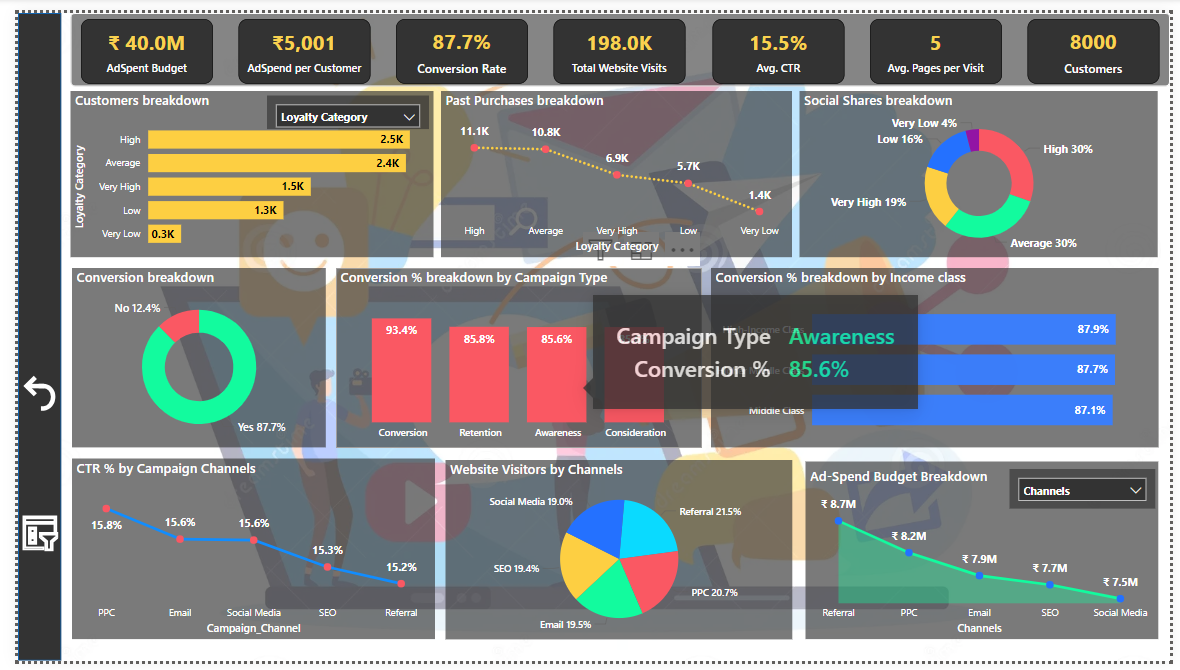

Layout of this report page (visuals, bound fields, positions):
{"tool":"powerbi","page":{"name":"Dashboard","canvas":[1280,720],"ordinal":0},"visuals":[{"type":"shape","box":[0,0,48.2,719.6],"z":0},{"type":"shape","box":[58.3,0,1221.7,81.7],"z":0,"group":"g1"},{"type":"clusteredBarChart","title":"Customers breakdown ","fields":{"Category":["Lookup Table.Age_Group #"],"Y":["DAX Measures.Total customers/ Visitors"]},"box":[57.8,86.7,403.2,184.6],"z":0,"group":"g3"},{"type":"lineChart","title":"Ad-Spend Budget Breakdown ","fields":{"Category":["Lookup Table.Campaign_Channel"],"Y":["DAX Measures.Total AdSpend Budget"]},"box":[874.4,498.7,391.9,197.5],"z":0,"group":"g2"},{"type":"group","id":"g1","title":"KPI Group","box":[58.3,0,1221.7,81.7],"z":1000},{"type":"card","fields":{"Values":["DAX Measures.Total AdSpend Budget"]},"box":[70,6.9,146.7,71.7],"z":1000,"group":"g1"},{"type":"slicer","fields":{"Values":["set-1: Customer attributes .set-1: Customer attributes "]},"box":[276.3,91.3,179.7,37.2],"z":1000,"group":"g3"},{"type":"slicer","fields":{"Values":["Set-2: Campaign attributes.Set-2: Campaign attributes"]},"box":[1100.4,506.6,161.9,43.7],"z":1000,"group":"g2"},{"type":"card","fields":{"Values":["DAX Measures.Avg Pages per visit"]},"box":[946.4,6.9,146.7,71.7],"z":2000,"group":"g1"},{"type":"donutChart","title":"Conversion breakdown","fields":{"Category":["Lookup Table.Conversion"],"Y":["DAX Measures.Total customers/ Visitors"]},"box":[59.9,283.4,281.7,199.2],"z":2000},{"type":"card","fields":{"Values":["DAX Measures.Total Website Visits"]},"box":[595.8,6.9,146.7,71.7],"z":3000,"group":"g1"},{"type":"columnChart","title":"Conversion % breakdown by Campaign Type","fields":{"Category":["Lookup Table.Campaign_Type"],"Y":["DAX Measures.Conversion %"]},"box":[353,283.4,406.4,199.2],"z":3000},{"type":"card","fields":{"Values":["DAX Measures.Avg AdSpend"]},"box":[245.2,6.9,146.7,71.7],"z":4000,"group":"g1"},{"type":"lineChart","title":"CTR % by Campaign Channels","fields":{"Y":["DAX Measures.Avg CTR"],"Category":["Lookup Table.Campaign_Channel"]},"box":[59.9,495.5,403.2,200.8],"z":4000},{"type":"card","fields":{"Values":["DAX Measures.Total customers/ Visitors"]},"box":[1121.6,6.9,146.7,71.7],"z":5000,"group":"g1"},{"type":"pieChart","title":"Website Visitors by Channels","fields":{"Category":["Lookup Table.Campaign_Channel"],"Y":["DAX Measures.Total customers/ Visitors"]},"box":[474.4,497.1,385.4,199.2],"z":5000},{"type":"card","fields":{"Values":["DAX Measures.Avg CTR"]},"box":[771.1,6.9,146.7,71.7],"z":6000,"group":"g1"},{"type":"group","id":"g2","title":"Ad-Spend Budget Breakdown","box":[874.4,498.7,391.9,197.5],"z":6000},{"type":"card","fields":{"Values":["DAX Measures.Conversion %"]},"box":[420.5,6.9,146.7,71.7],"z":7000,"group":"g1"},{"type":"clusteredBarChart","title":"Conversion % breakdown by Income class","fields":{"Y":["DAX Measures.Conversion %"],"Category":["Lookup Table.Incom_Level_Category #"]},"box":[770.8,283.4,497.1,199.2],"z":7000},{"type":"donutChart","title":"Social Shares breakdown","fields":{"Category":["Lookup Table.Age_Group #"],"Y":["Sum(Fact Table.Social_Shares)"]},"box":[867.9,87.4,398.3,184.6],"z":8000},{"type":"group","id":"g3","title":"Group 1","box":[57.8,86.7,403.2,184.6],"z":9000},{"type":"lineChart","title":"Past Purchases breakdown","fields":{"Category":["Lookup Table.Age_Group #"],"Y":["DAX Measures.Total Past Purchases"]},"box":[469.6,87.4,390.2,184.6],"z":10000},{"type":"actionButton","box":[0,383.8,48.6,77.7],"z":11000},{"type":"actionButton","box":[0,550.5,48.6,55.1],"z":12000}]}

Visuals, with their boxes in screenshot pixels (x1, y1, x2, y2), scaled from the page's 1280x720 canvas onto the 1180x670 screenshot:
shape: bbox=(0, 0, 44, 669)
shape: bbox=(54, 0, 1179, 76)
"Customers breakdown " clusteredBarChart: bbox=(53, 81, 425, 252)
"Ad-Spend Budget Breakdown " lineChart: bbox=(806, 464, 1167, 648)
"KPI Group" group: bbox=(54, 0, 1179, 76)
card - DAX Measures.Total AdSpend Budget: bbox=(65, 6, 200, 73)
slicer - set-1: Customer attributes .set-1: Customer attributes : bbox=(255, 85, 420, 120)
slicer - Set-2: Campaign attributes.Set-2: Campaign attributes: bbox=(1014, 471, 1164, 512)
card - DAX Measures.Avg Pages per visit: bbox=(872, 6, 1008, 73)
"Conversion breakdown" donutChart: bbox=(55, 264, 315, 449)
card - DAX Measures.Total Website Visits: bbox=(549, 6, 684, 73)
"Conversion % breakdown by Campaign Type" columnChart: bbox=(325, 264, 700, 449)
card - DAX Measures.Avg AdSpend: bbox=(226, 6, 361, 73)
"CTR % by Campaign Channels" lineChart: bbox=(55, 461, 427, 648)
card - DAX Measures.Total customers/ Visitors: bbox=(1034, 6, 1169, 73)
"Website Visitors by Channels" pieChart: bbox=(437, 463, 793, 648)
card - DAX Measures.Avg CTR: bbox=(711, 6, 846, 73)
"Ad-Spend Budget Breakdown" group: bbox=(806, 464, 1167, 648)
card - DAX Measures.Conversion %: bbox=(388, 6, 523, 73)
"Conversion % breakdown by Income class" clusteredBarChart: bbox=(711, 264, 1169, 449)
"Social Shares breakdown" donutChart: bbox=(800, 81, 1167, 253)
"Group 1" group: bbox=(53, 81, 425, 252)
"Past Purchases breakdown" lineChart: bbox=(433, 81, 793, 253)
actionButton: bbox=(0, 357, 45, 429)
actionButton: bbox=(0, 512, 45, 564)
